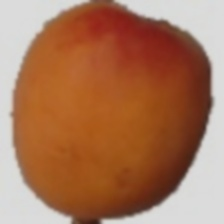apricot: (24, 0, 224, 196)
